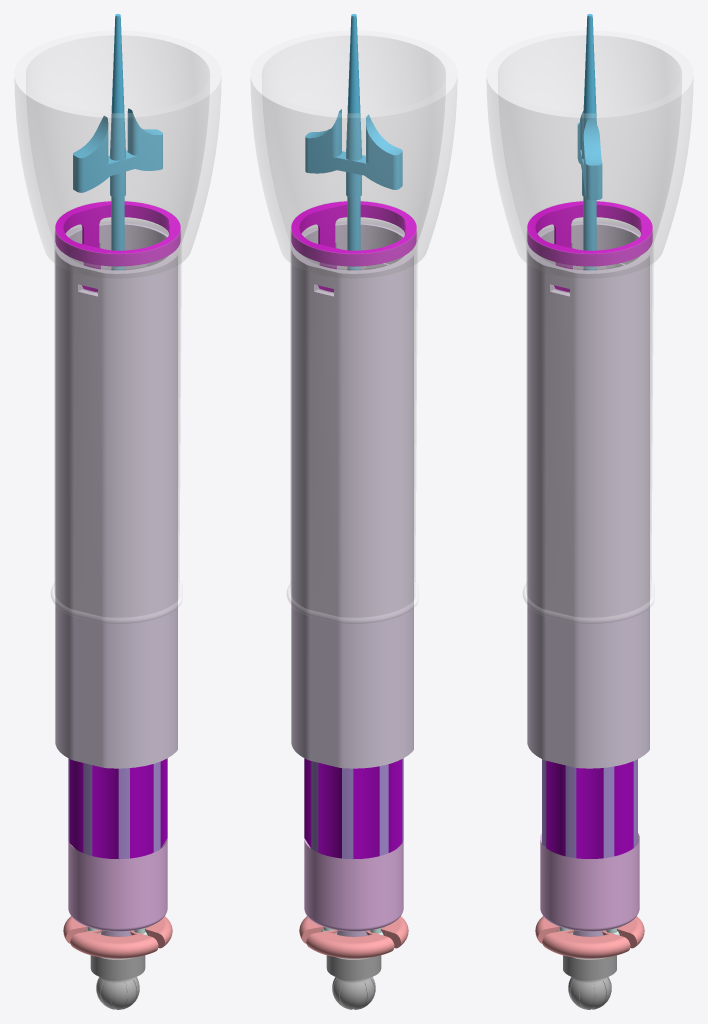
File: The Powerpuff Girls.glb
3 renders of one model, left to right at view 1: azimuth 30°, elevation 25°; view 2: azimuth 150°, elevation 25°; view 3: azimuth 270°, elevation 25°, orthographic.
Visible parts, largest first — view 1: Outermost_casing-1, Sheath_Main_Assembly^Internal_Shaft_Assembly-1, cup-1-1, Intermediate-Casing-1-1, Intermediate-Casing-2-1, Cervex-Brush(Combi)-1, Cup-Mount-1, Swashplate-1, Rotation-Knob-1; view 2: Outermost_casing-1, Sheath_Main_Assembly^Internal_Shaft_Assembly-1, cup-1-1, Intermediate-Casing-1-1, Intermediate-Casing-2-1, Cervex-Brush(Combi)-1, Cup-Mount-1, Swashplate-1, Rotation-Knob-1; view 3: Outermost_casing-1, Sheath_Main_Assembly^Internal_Shaft_Assembly-1, cup-1-1, Intermediate-Casing-1-1, Intermediate-Casing-2-1, Cup-Mount-1, Cervex-Brush(Combi)-1, Swashplate-1, Rotation-Knob-1.
Part boxes in pixels (left/top/right/bottom): Outermost_casing-1: left=55, top=221, right=177, bottom=768; Sheath_Main_Assembly^Internal_Shaft_Assembly-1: left=51, top=201, right=182, bottom=623; cup-1-1: left=14, top=31, right=221, bottom=278; Intermediate-Casing-1-1: left=68, top=758, right=167, bottom=859; Intermediate-Casing-2-1: left=68, top=838, right=167, bottom=931; Cervex-Brush(Combi)-1: left=73, top=14, right=162, bottom=270; Cup-Mount-1: left=55, top=201, right=180, bottom=292; Swashplate-1: left=63, top=916, right=172, bottom=958; Rotation-Knob-1: left=90, top=955, right=145, bottom=1009; Outermost_casing-1: left=291, top=221, right=413, bottom=768; Sheath_Main_Assembly^Internal_Shaft_Assembly-1: left=287, top=201, right=418, bottom=623; cup-1-1: left=250, top=31, right=457, bottom=278; Intermediate-Casing-1-1: left=304, top=758, right=403, bottom=859; Intermediate-Casing-2-1: left=304, top=838, right=403, bottom=931; Cervex-Brush(Combi)-1: left=305, top=14, right=402, bottom=270; Cup-Mount-1: left=291, top=201, right=416, bottom=292; Swashplate-1: left=299, top=916, right=408, bottom=958; Rotation-Knob-1: left=326, top=955, right=381, bottom=1009; Outermost_casing-1: left=527, top=221, right=649, bottom=768; Sheath_Main_Assembly^Internal_Shaft_Assembly-1: left=523, top=201, right=654, bottom=623; cup-1-1: left=486, top=31, right=693, bottom=278; Intermediate-Casing-1-1: left=542, top=759, right=637, bottom=858; Intermediate-Casing-2-1: left=540, top=833, right=639, bottom=931; Cup-Mount-1: left=527, top=201, right=652, bottom=292; Cervex-Brush(Combi)-1: left=577, top=14, right=602, bottom=270; Swashplate-1: left=535, top=916, right=644, bottom=958; Rotation-Knob-1: left=563, top=955, right=616, bottom=1009.
Bounding box in the file's own units: 0.038 × 0.2006 × 0.038.
